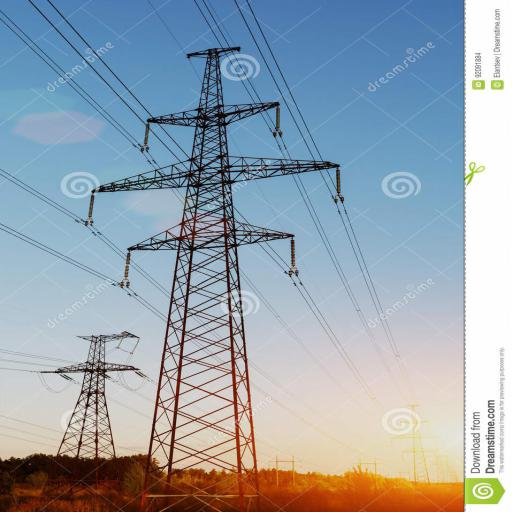ss_1: (46, 329, 157, 464)
ss_3: (88, 42, 352, 512)
